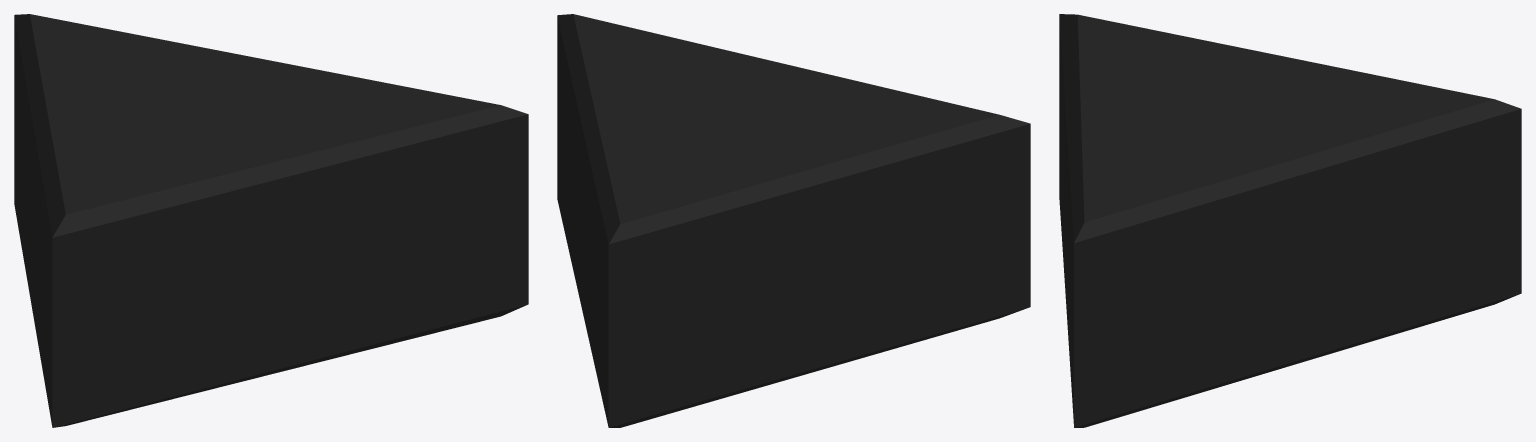
Rendered from Lid_Bebida.fbx.
The picture shows the model from 3 angles, left to right: view 1: azimuth 30°, elevation 25°; view 2: azimuth 150°, elevation 25°; view 3: azimuth 270°, elevation 25°; orthographic projection. The views are drawn at different scales.
Visible parts, largest first — view 1: pCube1; view 2: pCube1; view 3: pCube1.
Part boxes in pixels (x1,y1,x2,y2): pCube1: [14, 14, 528, 427]; pCube1: [557, 14, 1030, 427]; pCube1: [1059, 14, 1521, 427].
Bounding box in the file's own units: 1.33 × 0.5547 × 1.13.
